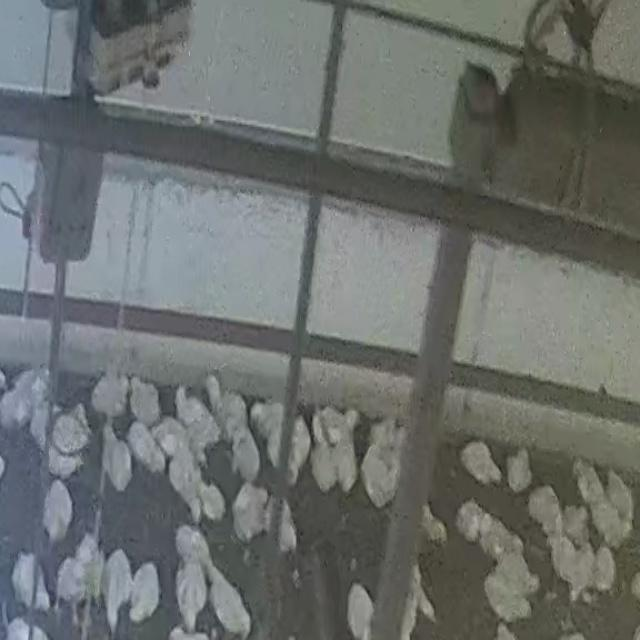chicken: (204, 559, 250, 638), (166, 436, 206, 522), (206, 368, 248, 442), (55, 542, 94, 612), (102, 548, 134, 630), (231, 482, 272, 546), (175, 556, 208, 634), (359, 444, 397, 510), (458, 439, 506, 488), (526, 484, 566, 540), (344, 578, 380, 640), (127, 418, 165, 476), (102, 422, 133, 492), (50, 408, 93, 458), (90, 369, 130, 422), (42, 479, 74, 545), (132, 560, 164, 622), (231, 427, 262, 488), (152, 416, 190, 464), (10, 550, 40, 610), (287, 416, 313, 484), (128, 376, 162, 428), (309, 438, 340, 494), (196, 478, 228, 527), (335, 434, 360, 494), (591, 544, 618, 598), (455, 499, 488, 541), (506, 446, 534, 494), (275, 499, 298, 555)
